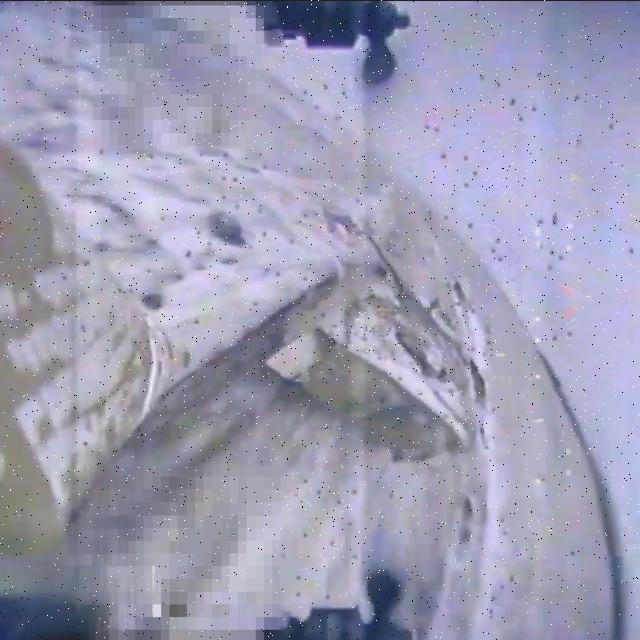AIFV: (271, 233, 477, 465)
